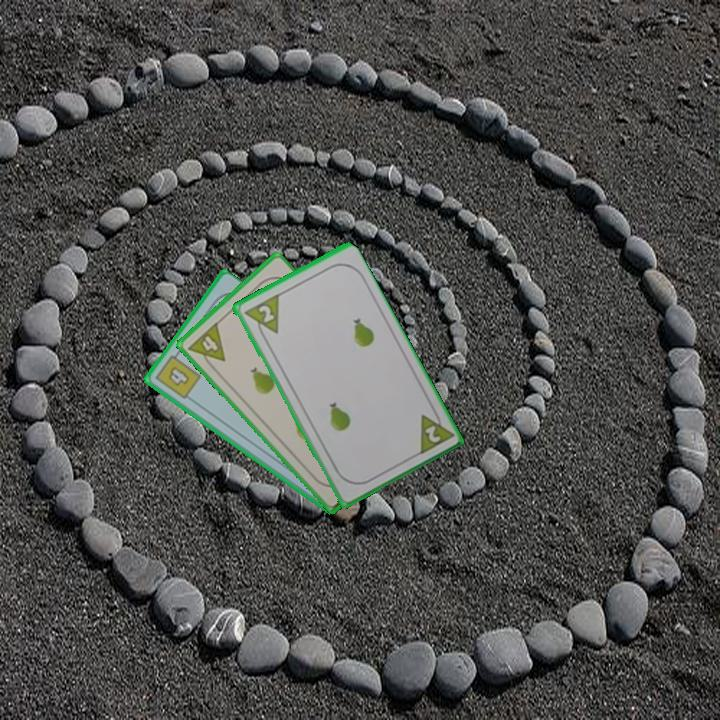2p: (239, 291, 282, 343), (414, 404, 455, 458)
4b: (152, 347, 204, 402)
4p: (184, 319, 228, 373)
